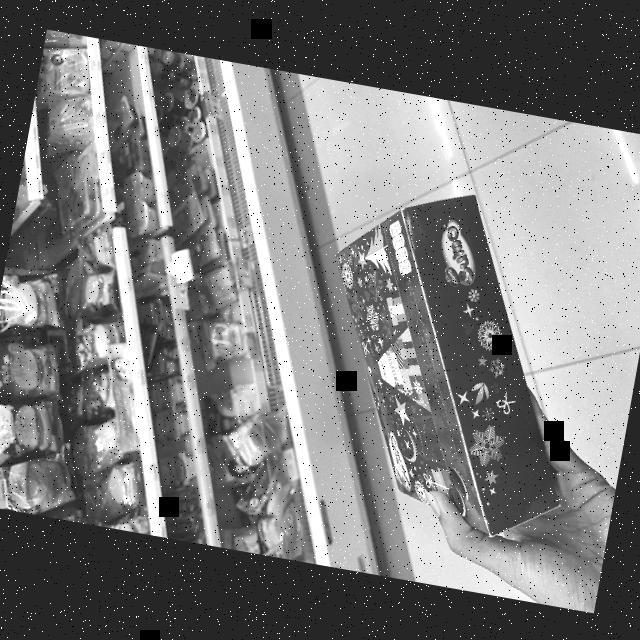cardboard_box: (272, 162, 624, 560)
